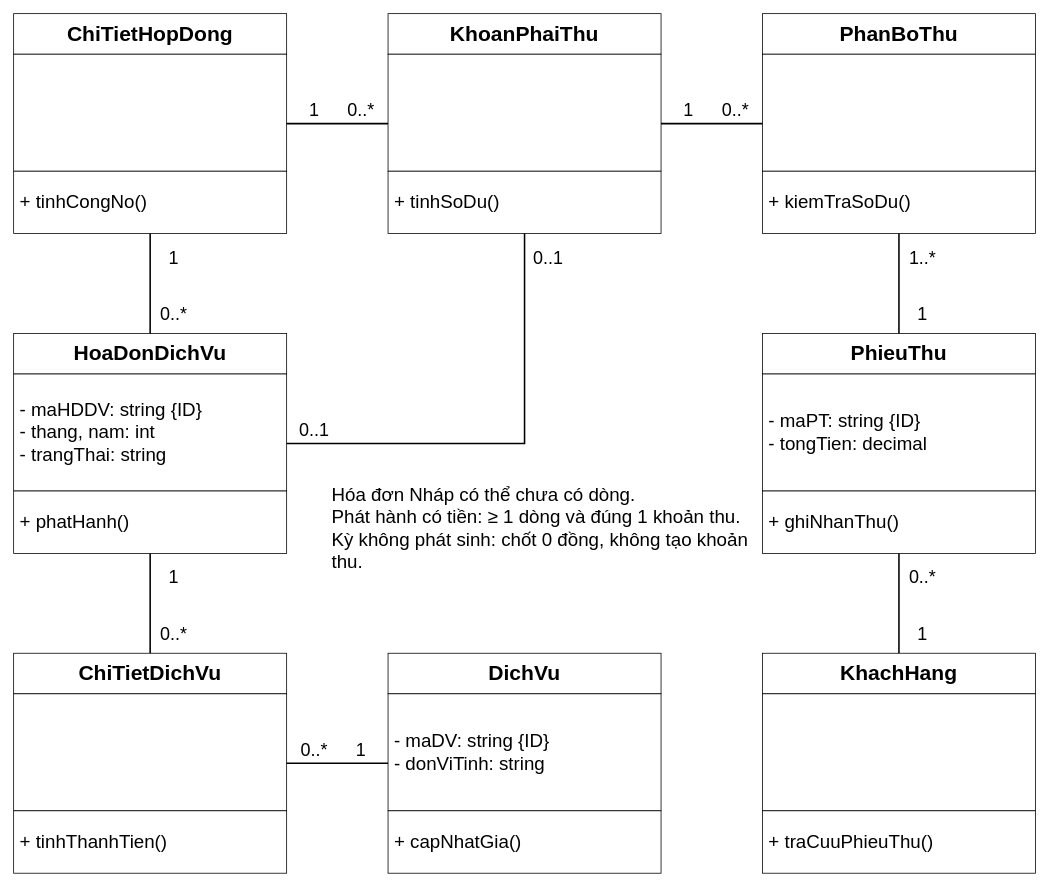
This 1049x887 diagram has some shape labels left out. The shapes that lost their labels are listed below. From the top down, each one's box as (x1, y1, x2, y2) in pixels, then its label:
(13, 53, 287, 171): - maCTHD: long {ID}
(387, 53, 661, 171): - maKhoan: long {ID} - loai: string - hanThu: date - soTien: decimal
(762, 53, 1035, 171): - maPhanBo: long {ID} - soTien: decimal
(13, 693, 287, 811): - maCTDV: long {ID} - soLuong: decimal - donGia: decimal
(762, 693, 1035, 811): - maKH: string {ID}
